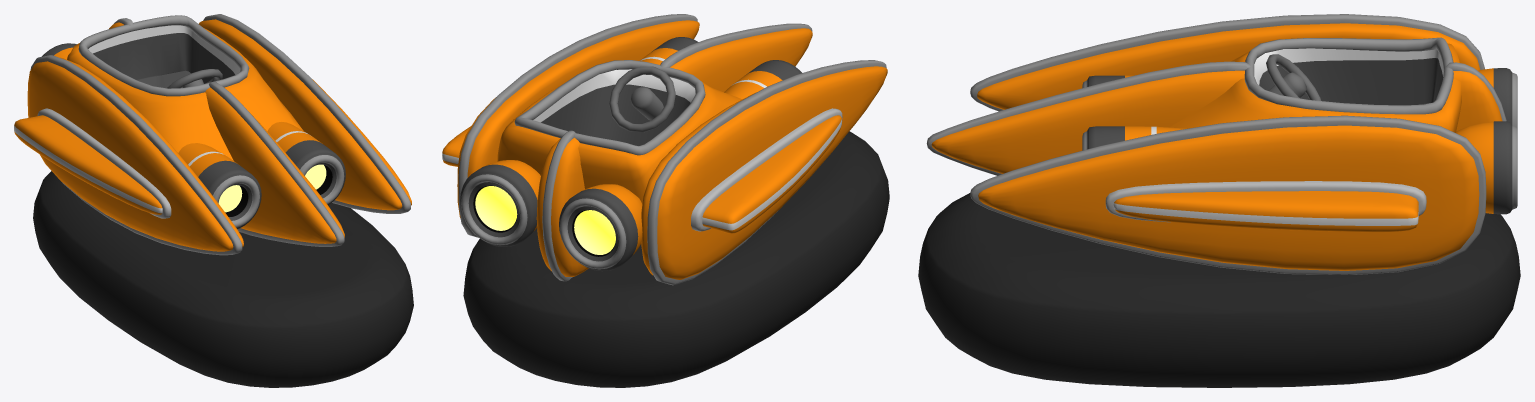
Rendered from mesh_Car_Menu_S.fbx.
3 renders of one model, left to right at view 1: azimuth 30°, elevation 25°; view 2: azimuth 150°, elevation 25°; view 3: azimuth 270°, elevation 25°, orthographic. The views are drawn at different scales.
Parts seen in each view (by area): view 1: mesh_Car_Menu_S; view 2: mesh_Car_Menu_S; view 3: mesh_Car_Menu_S.
Boxes of the visible parts, <box> form: mesh_Car_Menu_S: <box>14,14,413,387</box>; mesh_Car_Menu_S: <box>442,14,889,387</box>; mesh_Car_Menu_S: <box>918,14,1520,387</box>.
Bounding box in the file's own units: 1.85 × 1.5 × 2.97.
